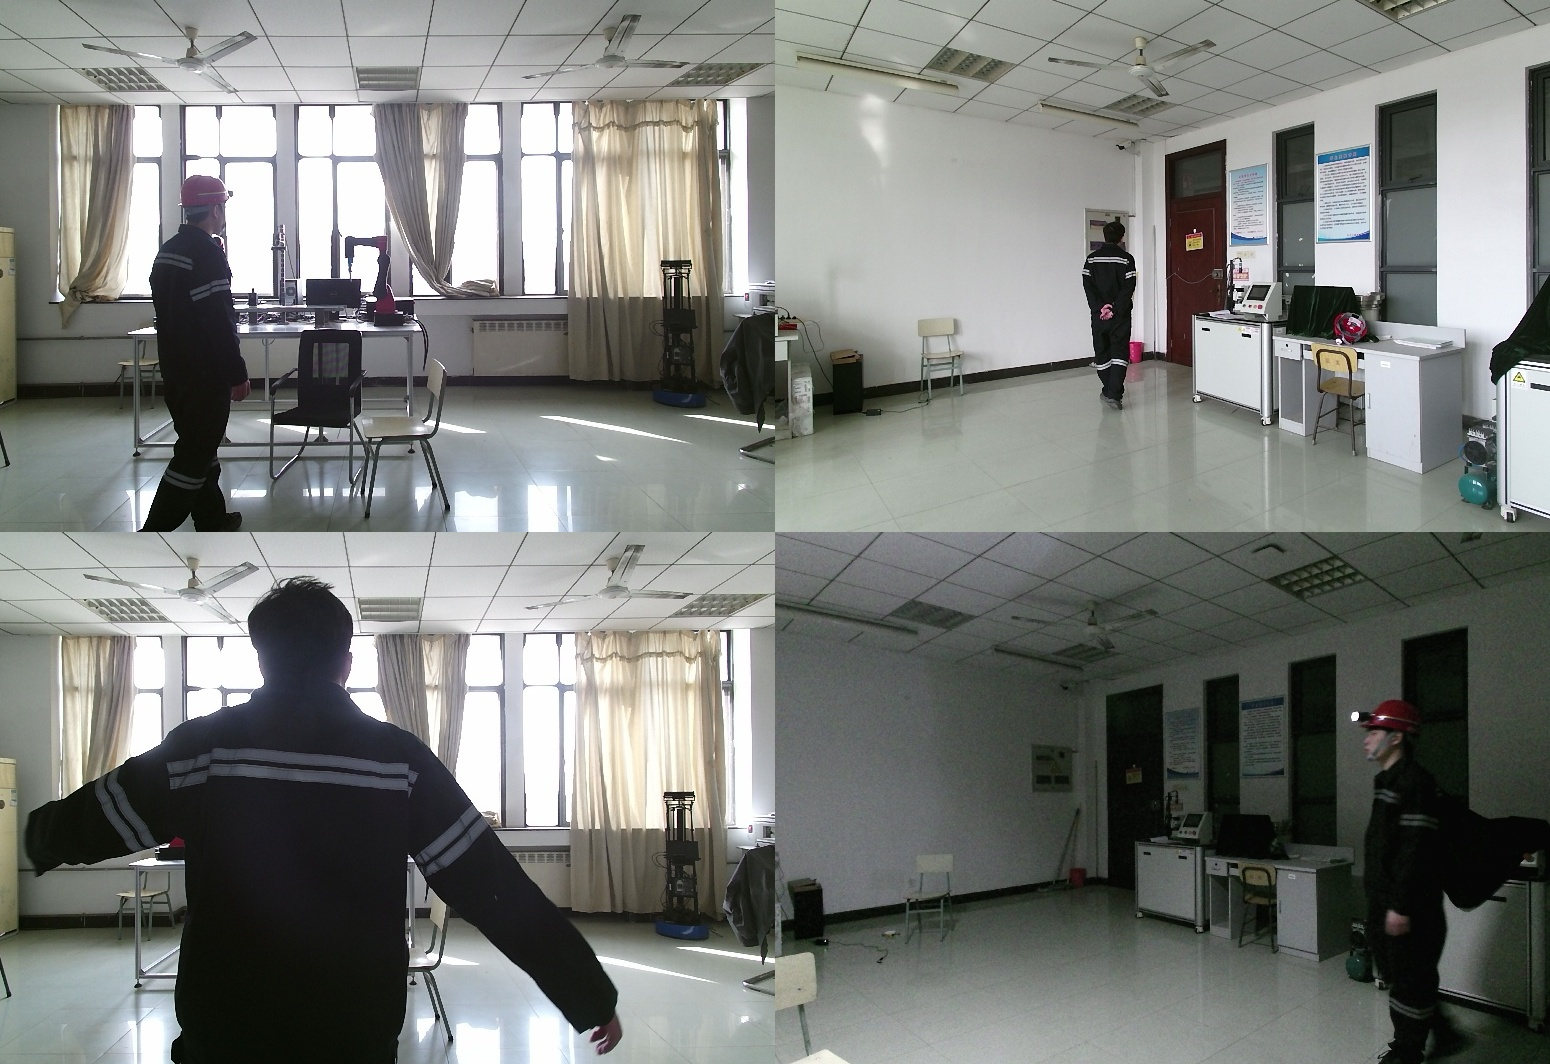person: (28, 583, 618, 1064), (138, 176, 258, 532), (1359, 697, 1470, 1061), (1078, 222, 1145, 417)
